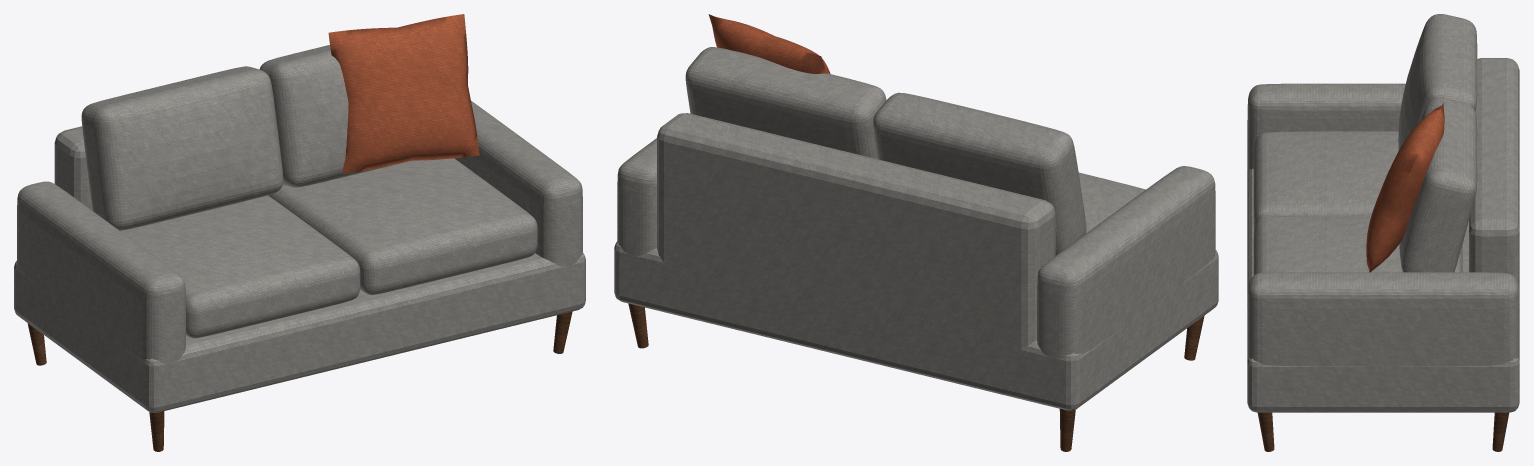
Rendered from sofa_2p_156.glb.
3 renders of one model, left to right at view 1: azimuth 30°, elevation 25°; view 2: azimuth 150°, elevation 25°; view 3: azimuth 270°, elevation 25°, orthographic. The views are drawn at different scales.
Visible parts, largest first — view 1: asiento, cojin_deco, pata; view 2: asiento, cojin_deco, pata; view 3: asiento, cojin_deco, pata.
Boxes of the visible parts, x1,y1,x2,y2 form: asiento: (14,45,585,412); cojin_deco: (328,14,479,173); pata: (27,311,572,451); asiento: (614,47,1218,410); cojin_deco: (708,14,830,73); pata: (628,303,1204,451); asiento: (1247,14,1519,412); cojin_deco: (1366,103,1444,272); pata: (1257,412,1509,451).
Bounding box in the file's own units: 1.56 × 0.9792 × 0.8601.
Materials: 3 (3 with a texture image).
